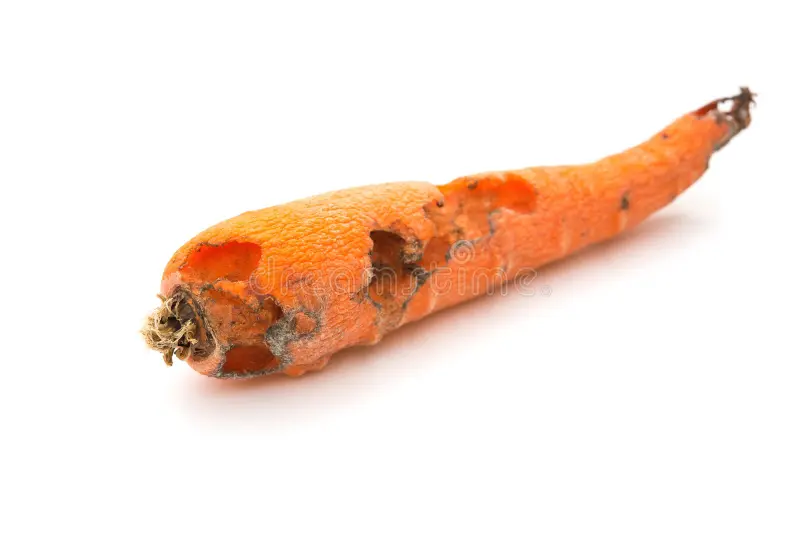rotten carrot: (117, 80, 740, 426)
